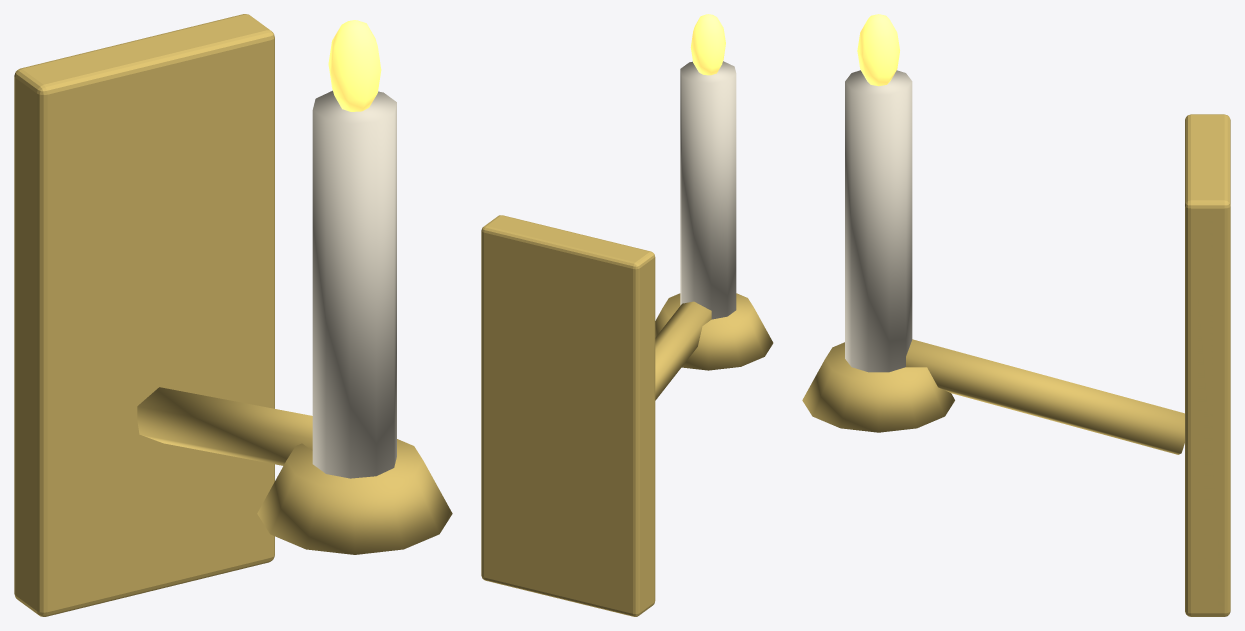
The model's file is sconce_brass_arm.glb.
3 views of the same model, side by side, from view 1: azimuth 30°, elevation 25°; view 2: azimuth 150°, elevation 25°; view 3: azimuth 270°, elevation 25° (orthographic). The views are drawn at different scales.
Visible parts, largest first — view 1: GD_sconce_brass_arm__m0, GD_sconce_brass_arm__m1, GD_sconce_brass_arm__m2; view 2: GD_sconce_brass_arm__m0, GD_sconce_brass_arm__m1, GD_sconce_brass_arm__m2; view 3: GD_sconce_brass_arm__m0, GD_sconce_brass_arm__m1, GD_sconce_brass_arm__m2.
Boxes of the visible parts, x1,y1,x2,y2 form: GD_sconce_brass_arm__m0: (14, 14, 452, 616); GD_sconce_brass_arm__m1: (312, 90, 396, 478); GD_sconce_brass_arm__m2: (328, 20, 381, 111); GD_sconce_brass_arm__m0: (481, 215, 773, 616); GD_sconce_brass_arm__m1: (680, 61, 736, 319); GD_sconce_brass_arm__m2: (690, 14, 725, 75); GD_sconce_brass_arm__m0: (802, 114, 1230, 616); GD_sconce_brass_arm__m1: (845, 70, 912, 372); GD_sconce_brass_arm__m2: (857, 14, 899, 86).
Size of the model in its own units: 0.14 by 0.4036 by 0.28.
